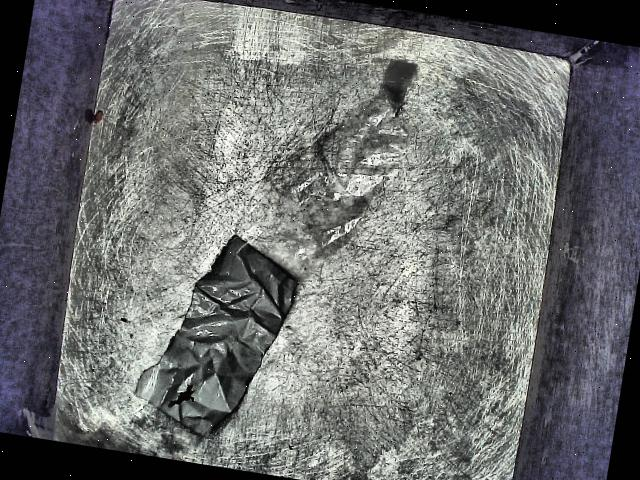Plastic: (91, 9, 429, 480)
